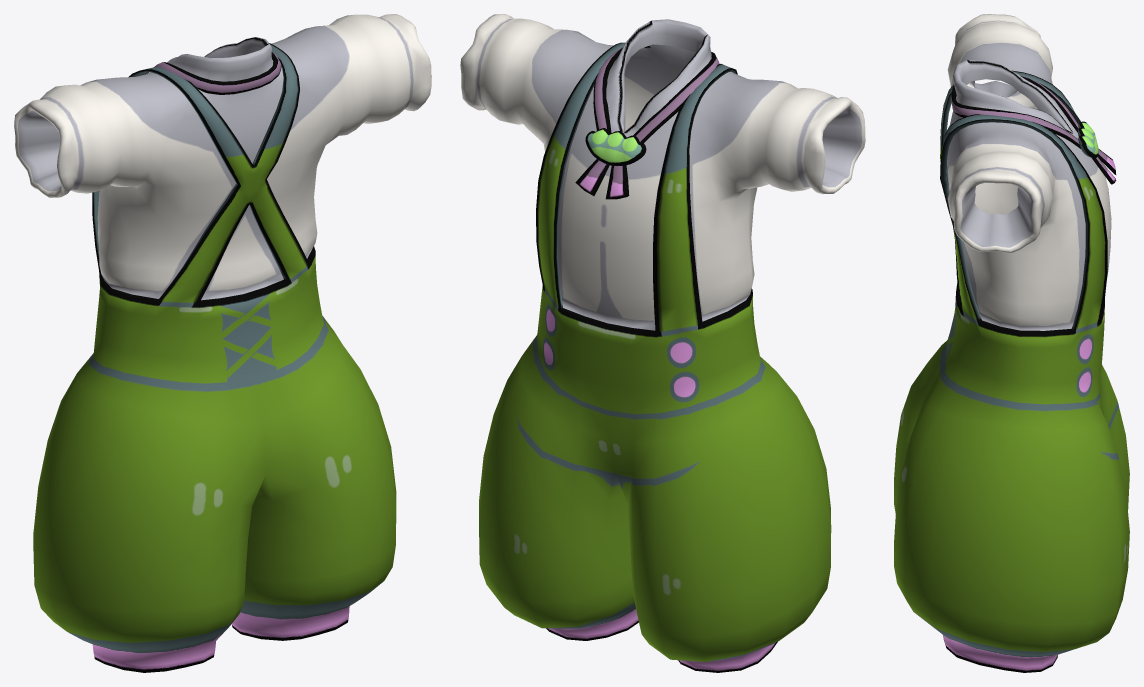
Rendered from Cloth_baked.obj.
3 renders of one model, left to right at view 1: azimuth 30°, elevation 25°; view 2: azimuth 150°, elevation 25°; view 3: azimuth 270°, elevation 25°, orthographic. The views are drawn at different scales.
Bounding box in the file's own units: 0.3323 × 0.517 × 0.1984.
1 material, 1 textured.
